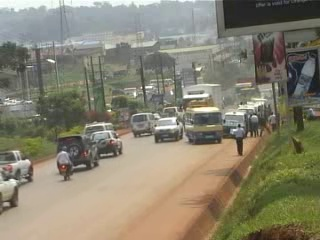Car: (54, 133, 100, 172), (89, 129, 124, 158), (149, 111, 163, 126)
Motorcycle: (55, 148, 73, 181)
